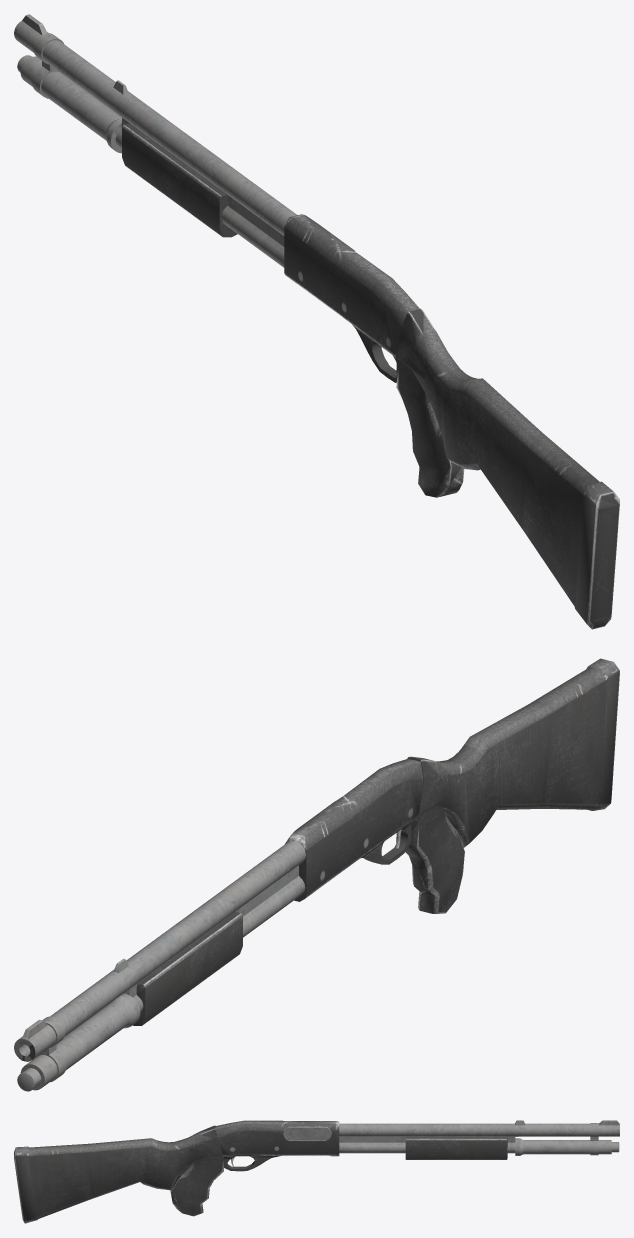
File: pump shotgun.fbx
The picture shows the model from 3 angles, top to bottom: view 1: azimuth 30°, elevation 25°; view 2: azimuth 150°, elevation 25°; view 3: azimuth 270°, elevation 25°; orthographic projection. The views are drawn at different scales.
Parts seen in each view (by area): view 1: Large Stock, Large Barrel, Body, Pump, Small Stock; view 2: Large Stock, Large Barrel, Body, Small Stock, Pump; view 3: Large Stock, Large Barrel, Body, Small Stock, Pump, Small Barrel.
Boxes of the visible parts, x1,y1,x2,y2 form: Large Stock: (396,308,619,629); Large Barrel: (14,14,297,267); Body: (284,214,419,382); Pump: (122,123,237,237); Small Stock: (396,328,464,497); Large Stock: (408,658,619,847); Large Barrel: (14,840,305,1091); Body: (285,758,423,901); Small Stock: (396,757,464,913); Pump: (133,912,242,1025); Large Stock: (14,1125,223,1223); Large Barrel: (339,1120,619,1155); Body: (215,1120,339,1171); Small Stock: (170,1138,223,1216); Pump: (405,1137,507,1159); Small Barrel: (515,1120,525,1155).
Bounding box in the file's own units: 25.71 × 162 × 877.
